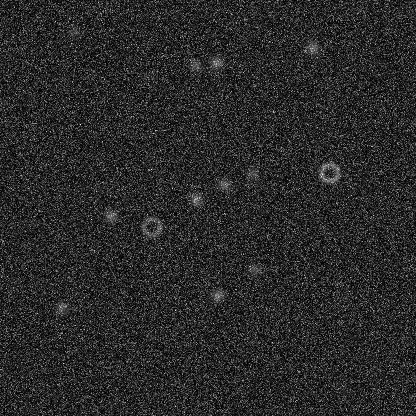Ring: (139, 214, 163, 238), (317, 160, 341, 184)
Spot: (244, 165, 260, 181), (187, 191, 203, 207), (246, 261, 262, 277), (66, 22, 82, 38), (102, 207, 118, 223), (209, 286, 225, 302), (208, 54, 224, 70), (53, 299, 69, 315), (140, 67, 156, 83), (336, 290, 352, 306), (304, 40, 320, 56), (335, 379, 351, 395), (216, 176, 232, 192), (187, 57, 203, 73)
